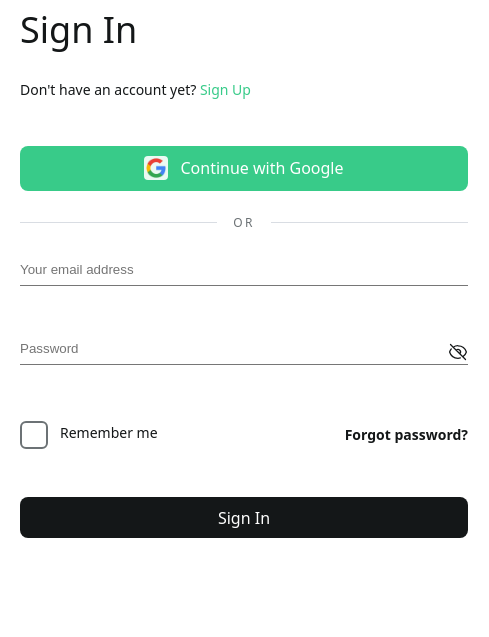
Test case: Feature: LoginForm › should display server error message on invalid credentials and clear it on typing
Note: Try to login with bad data
In the field with placeholder "Your email address": (244,273) [20,261,468,286], type "wrong@test.com"
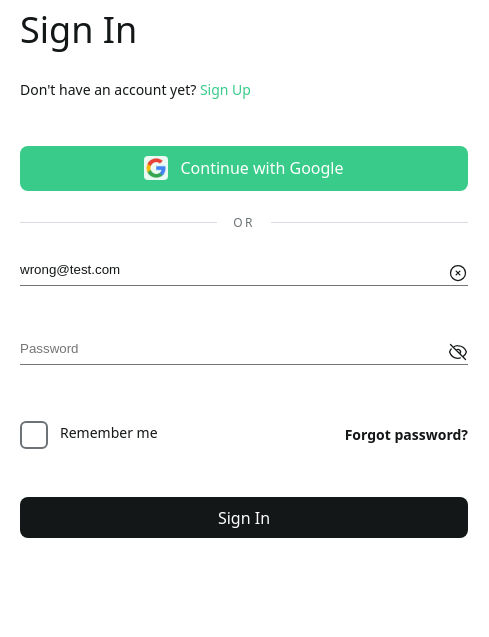
In the password field with placeholder "Password": (244,352) [20,340,468,365], type "wrongpass"
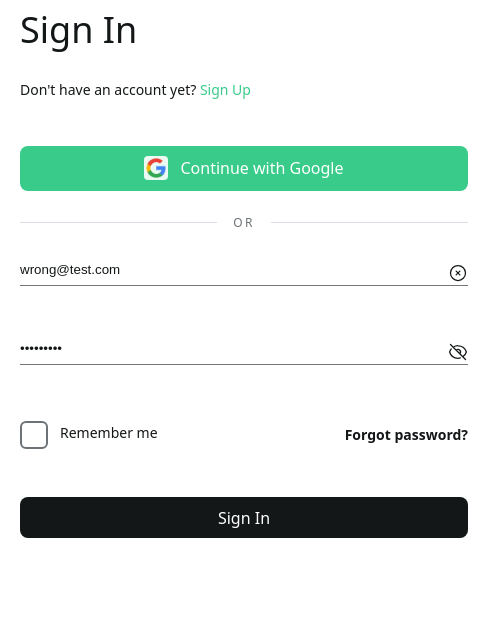
Click the button "Sign In": (244,518) [20,497,468,538]
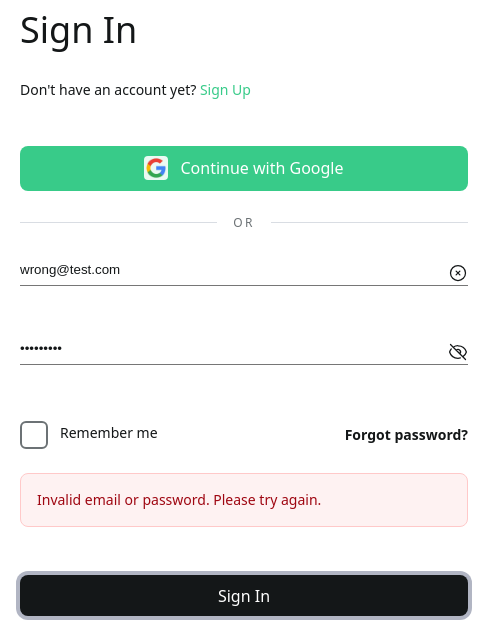
Result: the text "Invalid email or password. Please try again." is shown at [20,473,468,527]
Note: Emulate typing to clear the error (onChange hook)
In the field with placeholder "Your email address": (244,273) [20,261,468,286], type "a"
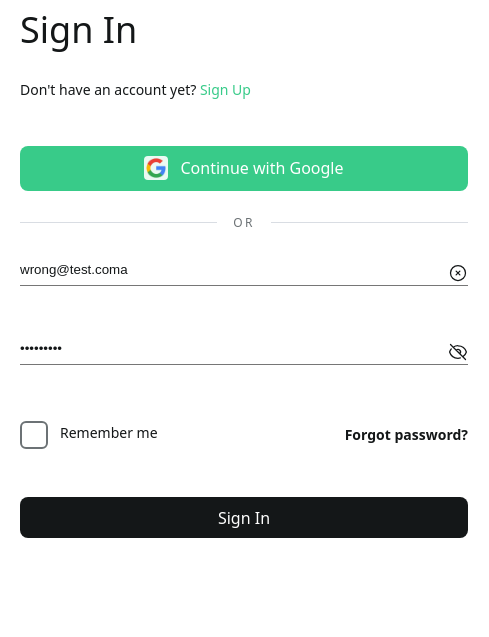
Result: the text "Invalid email or password. Please try again." is gone
